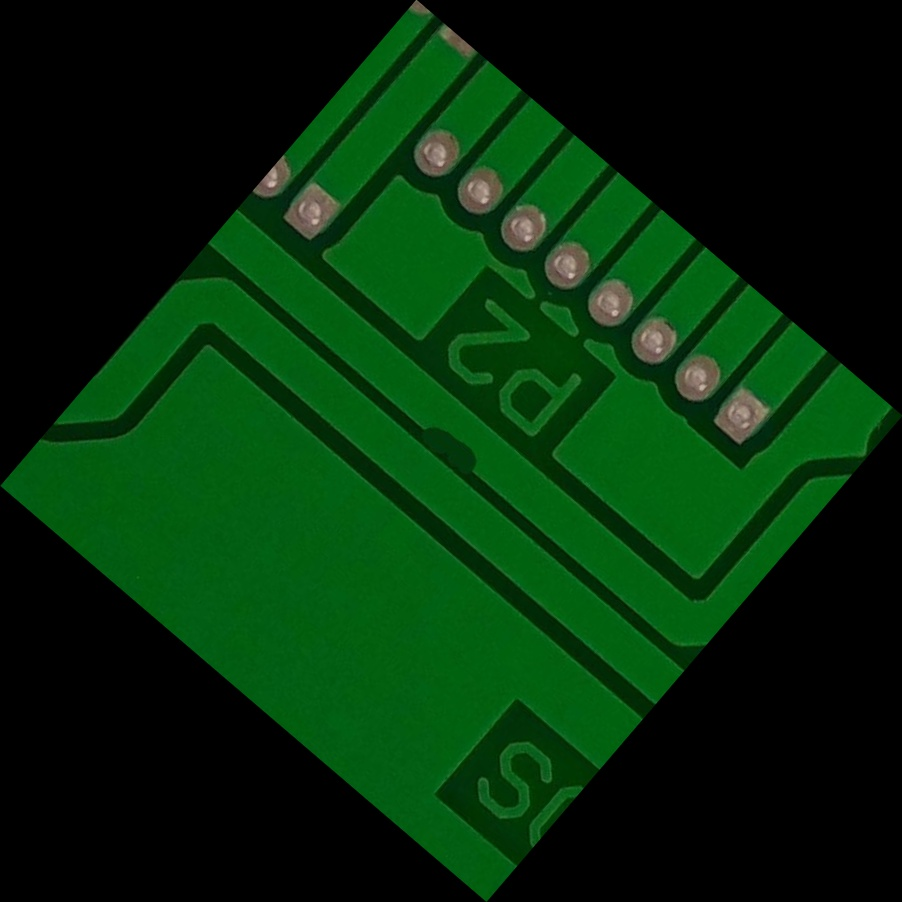mouse_bite: (401, 404, 500, 499)
